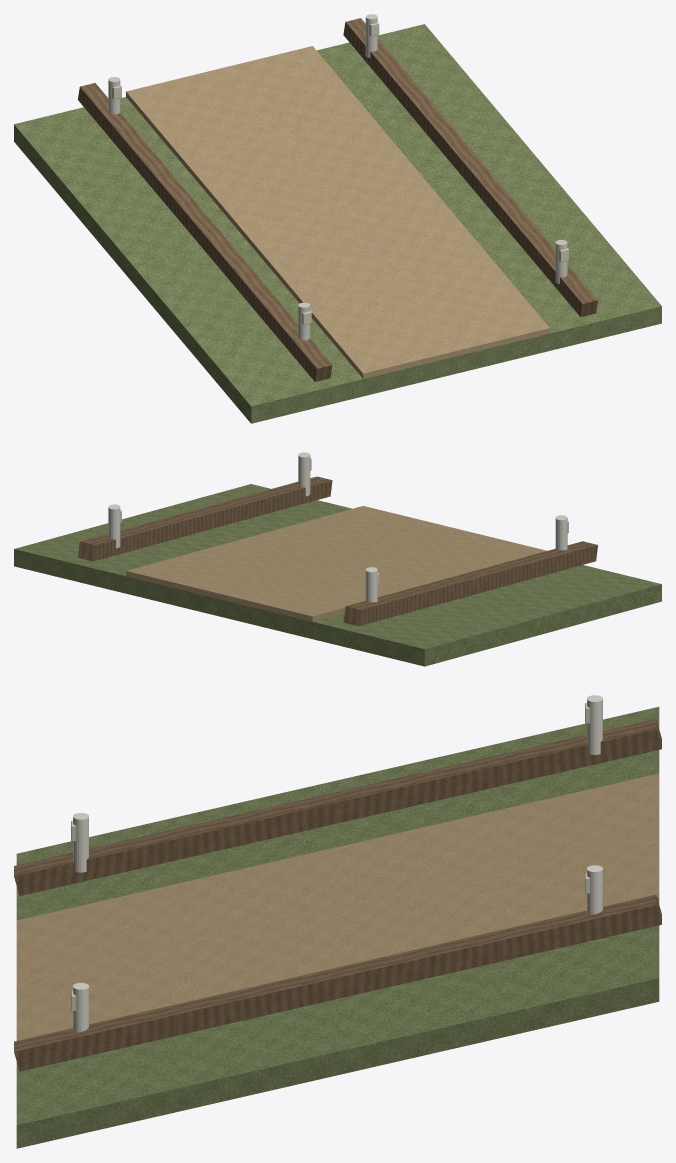
File: ROAD_DIRT_SLOPE_1x1_UP_050.glb
3 renders of one model, top to bottom at view 1: azimuth 30°, elevation 25°; view 2: azimuth 150°, elevation 25°; view 3: azimuth 270°, elevation 25°, orthographic. The views are drawn at different scales.
Visible parts, largest first — view 1: ROAD_DIRT_SLOPE_1x1_UP_050_Visual; view 2: ROAD_DIRT_SLOPE_1x1_UP_050_Visual; view 3: ROAD_DIRT_SLOPE_1x1_UP_050_Visual.
Boxes of the visible parts, left/top/right/bottom form: ROAD_DIRT_SLOPE_1x1_UP_050_Visual: left=14, top=14, right=661, bottom=423; ROAD_DIRT_SLOPE_1x1_UP_050_Visual: left=14, top=452, right=661, bottom=666; ROAD_DIRT_SLOPE_1x1_UP_050_Visual: left=14, top=695, right=661, bottom=1148.
Size of what is drawn, in the model's own units: 1.98 by 0.78 by 2.
Materials: 5 (3 with a texture image).
